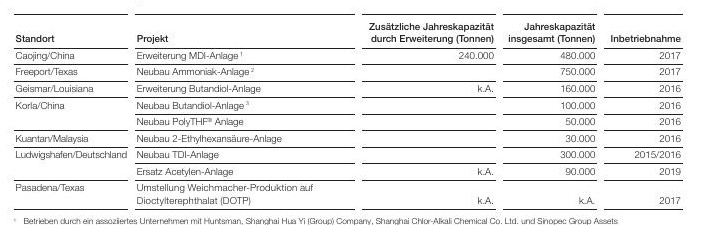table: (0, 0, 704, 225)
